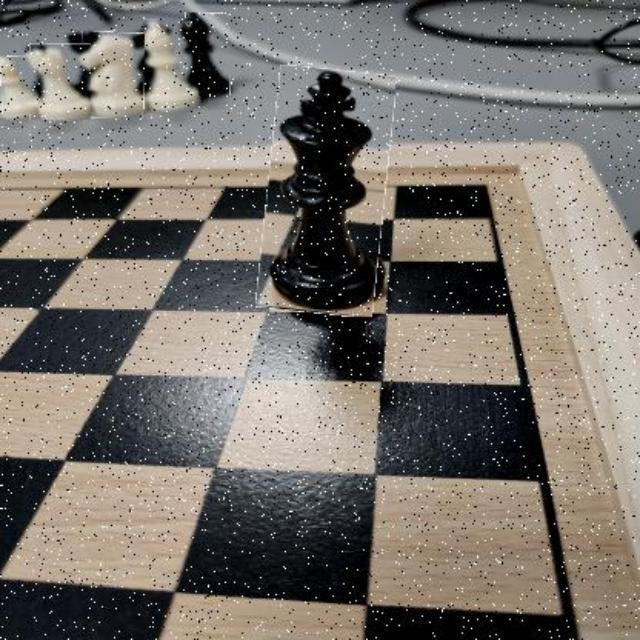black-bishop: (182, 13, 231, 97)
black-king: (261, 67, 391, 316)
white-bishop: (144, 18, 200, 113)
white-knight: (78, 32, 145, 118)
white-pawn: (0, 55, 40, 116)
white-rook: (30, 43, 92, 121)
